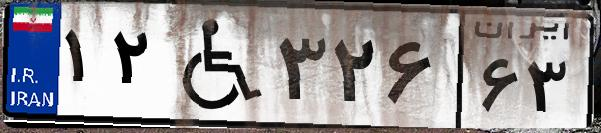1: (57, 26, 110, 100)
2: (330, 28, 385, 110), (110, 28, 158, 98)
3: (270, 28, 330, 110), (525, 38, 570, 115)
6: (385, 28, 445, 110), (475, 38, 525, 113)
ژ (معلولین و جانبازان): (158, 12, 270, 120)
